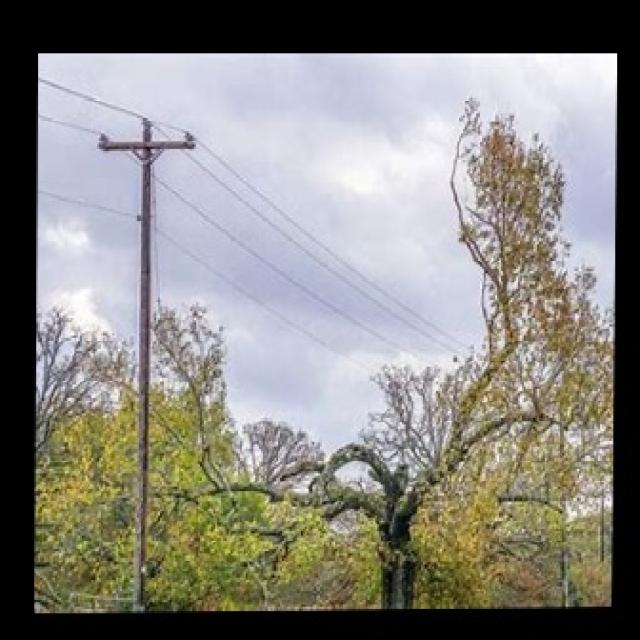utility poles: (91, 93, 193, 613)
